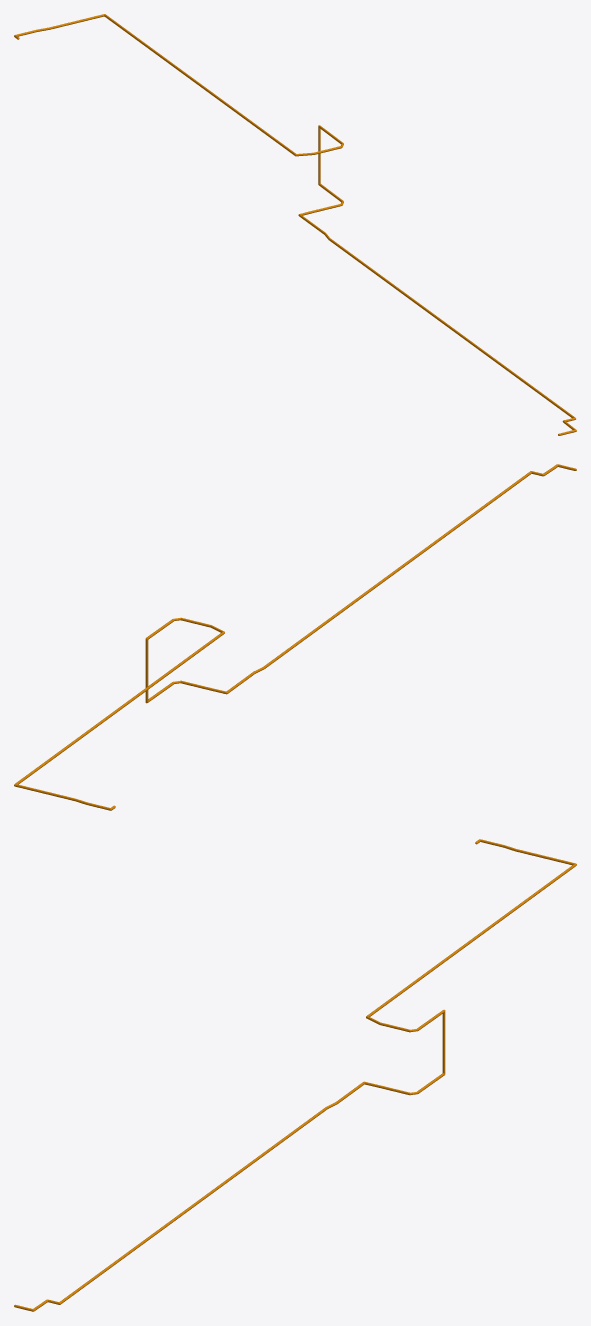
The picture shows the model from 3 angles, top to bottom: view 1: azimuth 30°, elevation 25°; view 2: azimuth 150°, elevation 25°; view 3: azimuth 330°, elevation 25°; orthographic projection. The views are drawn at different scales.
Bounding box in the file's own units: 1248 × 520 × 7629.
